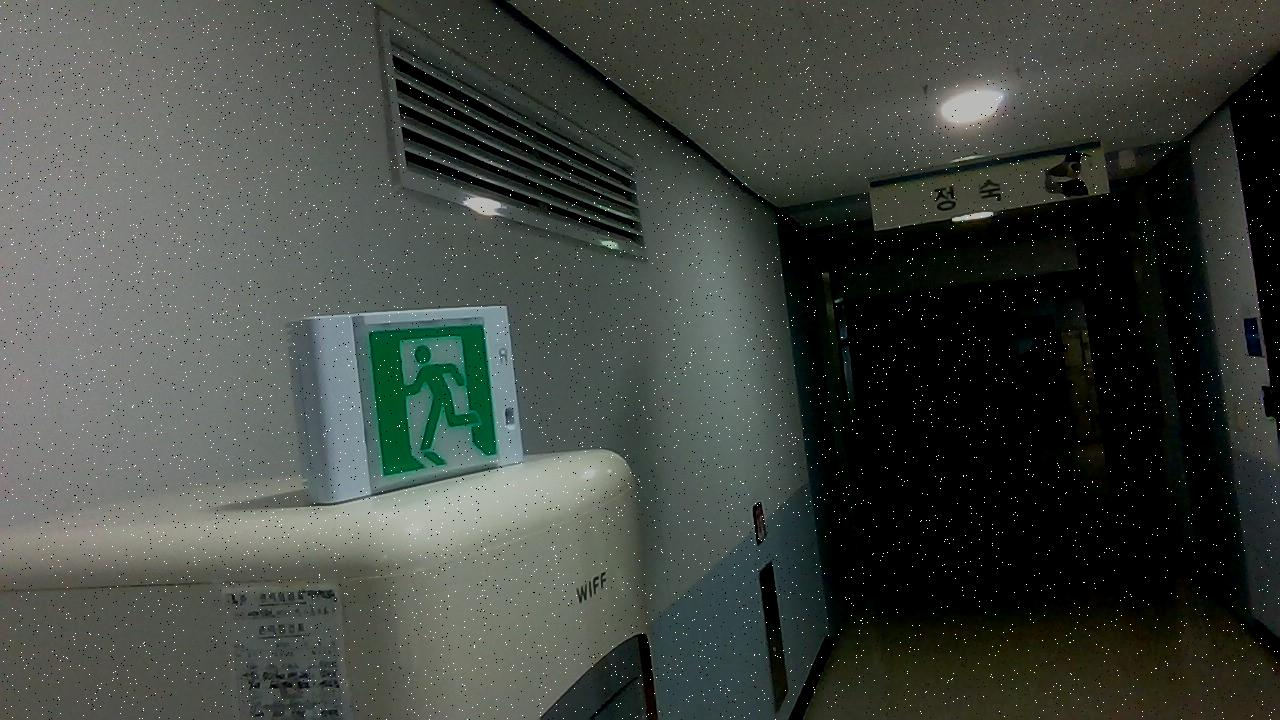emergency_exit: (292, 304, 525, 506), (867, 139, 1111, 233)
